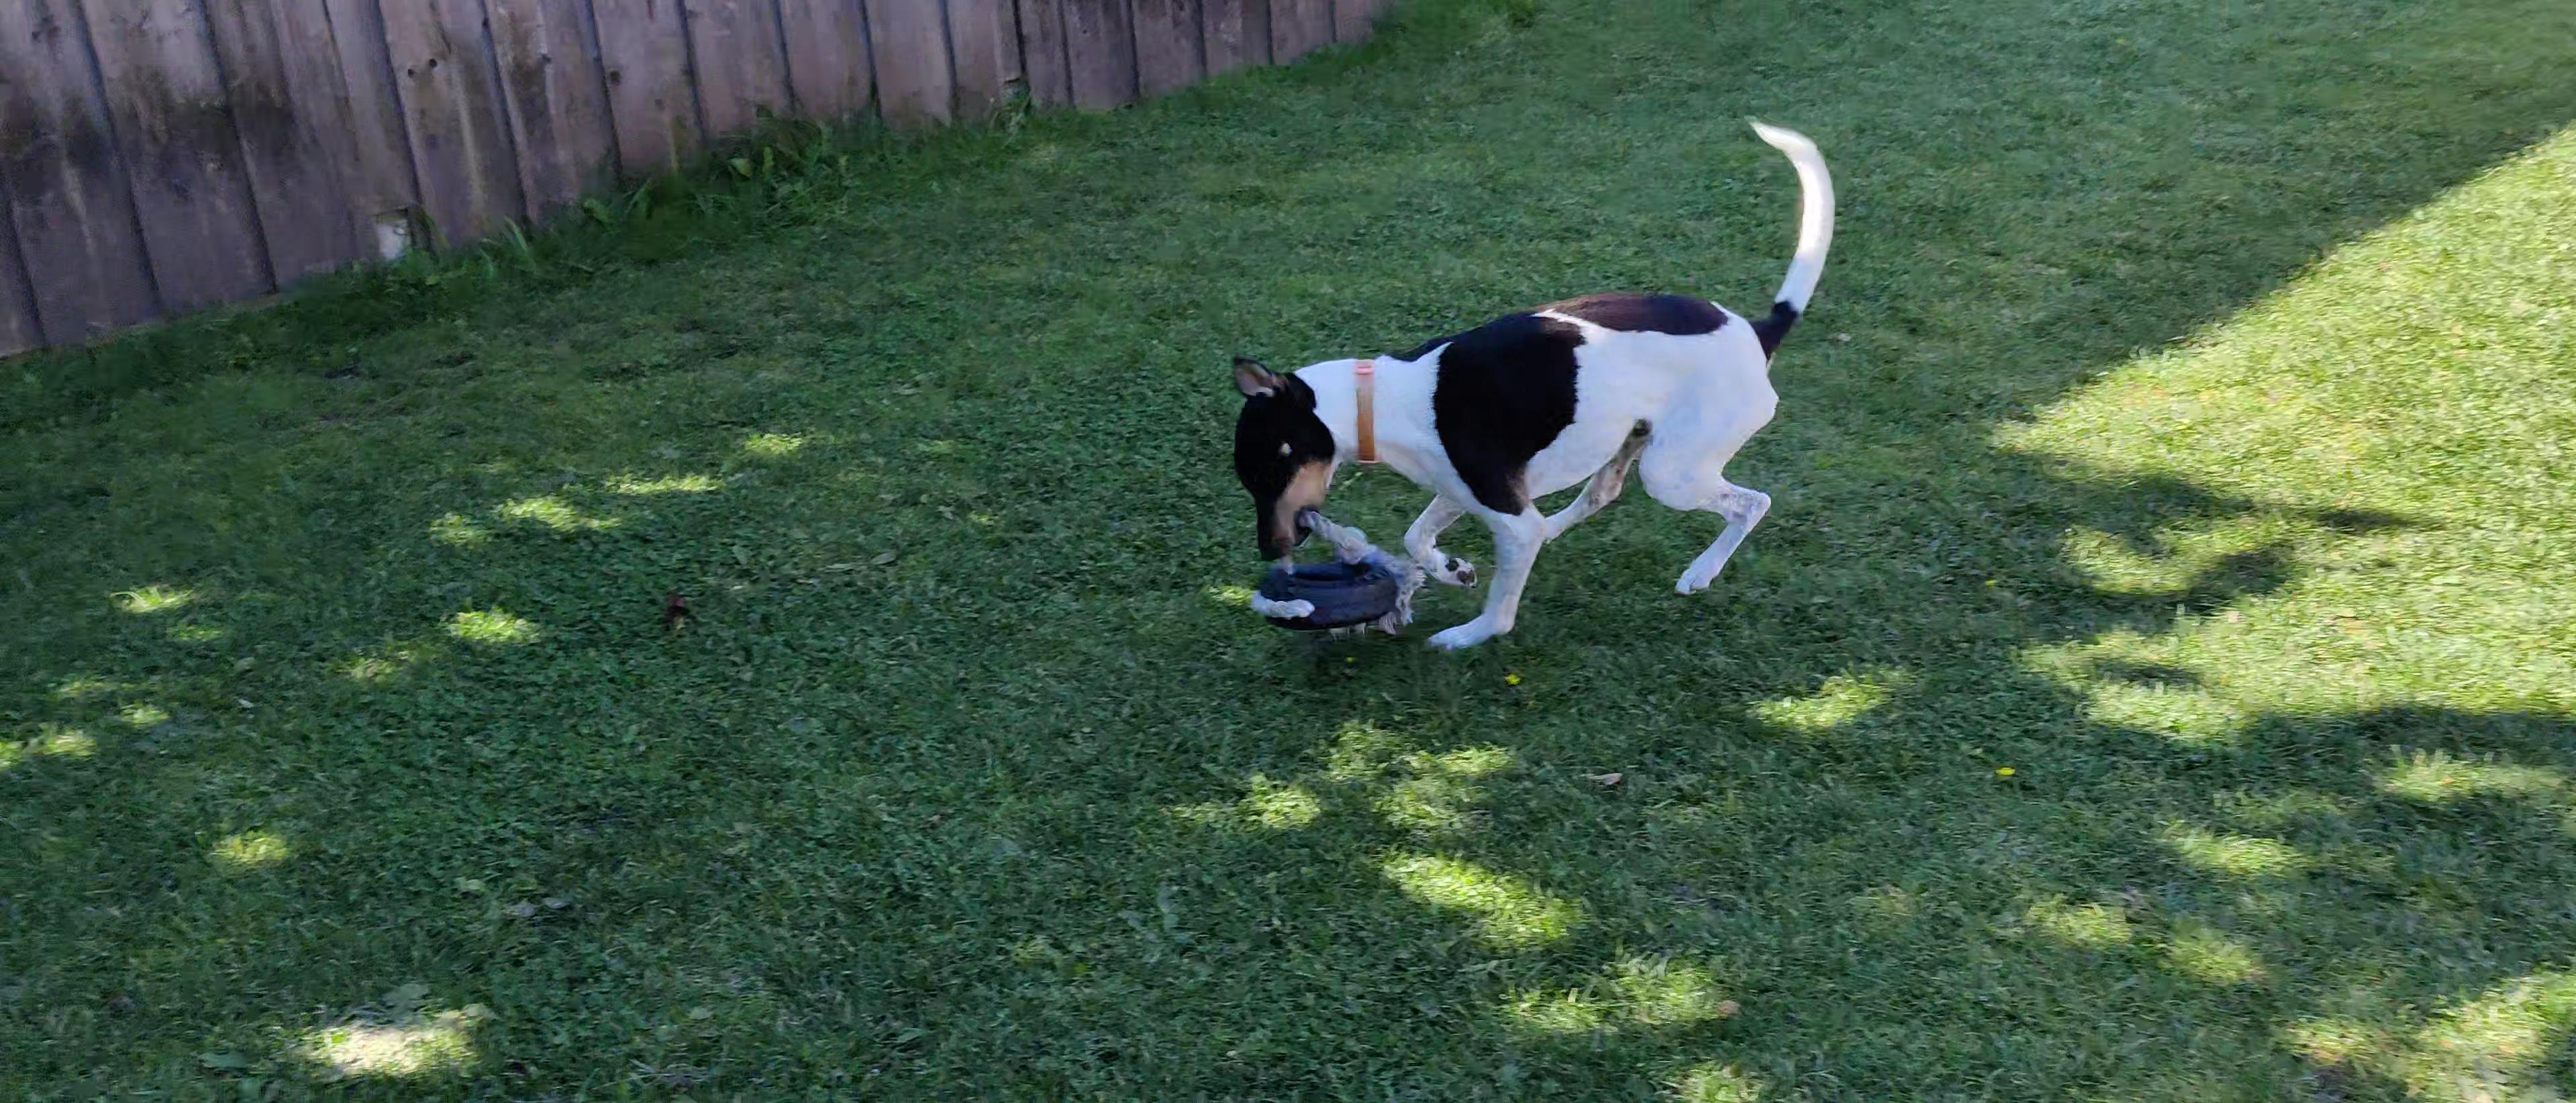Dog: (1219, 105, 1855, 653)
